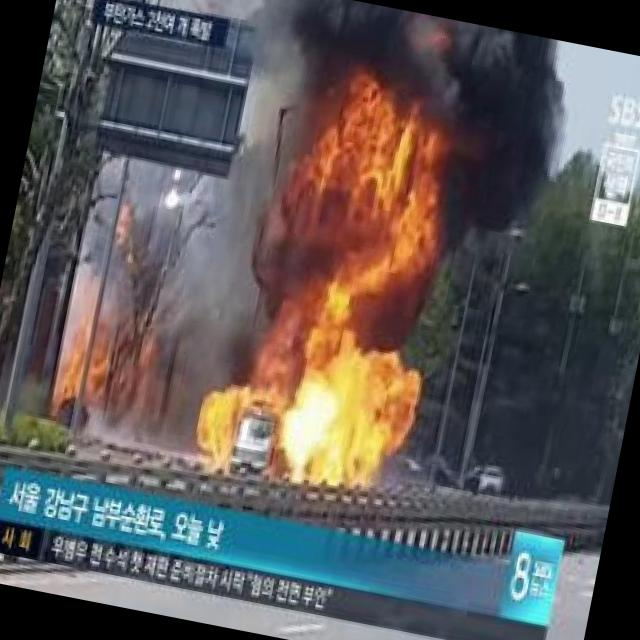Fire: (215, 59, 479, 507), (185, 380, 266, 476), (54, 343, 86, 404)
Smoke: (280, 0, 579, 116), (444, 98, 568, 274)
